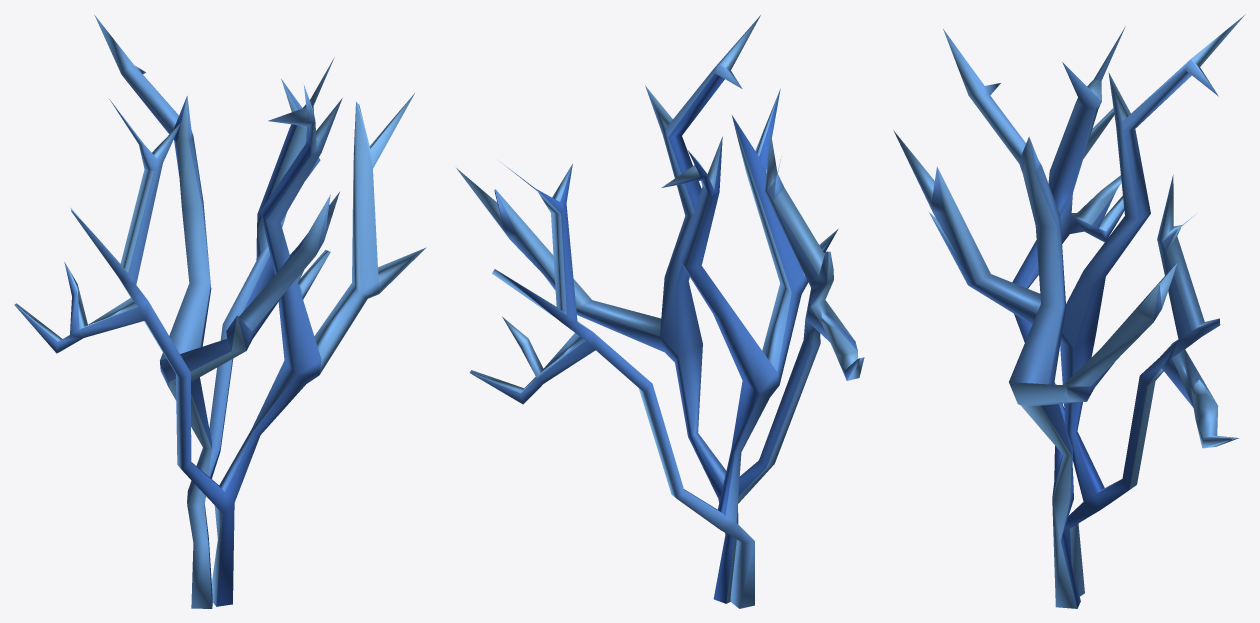
Rendered from seaGrassBigBlue.fbx.
The picture shows the model from 3 angles, left to right: view 1: azimuth 30°, elevation 25°; view 2: azimuth 150°, elevation 25°; view 3: azimuth 270°, elevation 25°; orthographic projection. The views are drawn at different scales.
Parts seen in each view (by area): view 1: seaGrassBigBlueObject; view 2: seaGrassBigBlueObject; view 3: seaGrassBigBlueObject.
Part boxes in pixels (bbox=[...]): seaGrassBigBlueObject: bbox=[14, 15, 426, 608]; seaGrassBigBlueObject: bbox=[456, 15, 864, 608]; seaGrassBigBlueObject: bbox=[893, 14, 1245, 608].
Size of the model in its own units: 0.8823 by 1.14 by 0.6177.
Materials: 1 (1 with a texture image).
